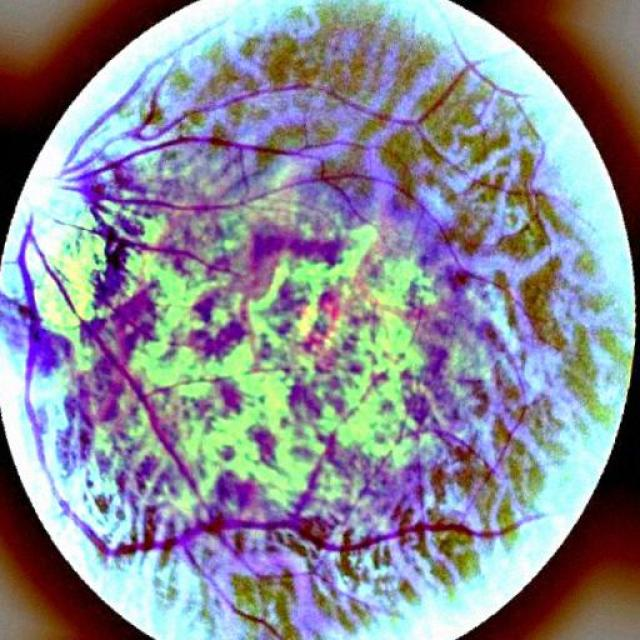Nerves: (52, 92, 308, 318), (66, 506, 535, 572), (12, 214, 128, 381), (221, 591, 279, 636)
Optic Disk: (20, 176, 94, 259), (29, 246, 42, 279)
